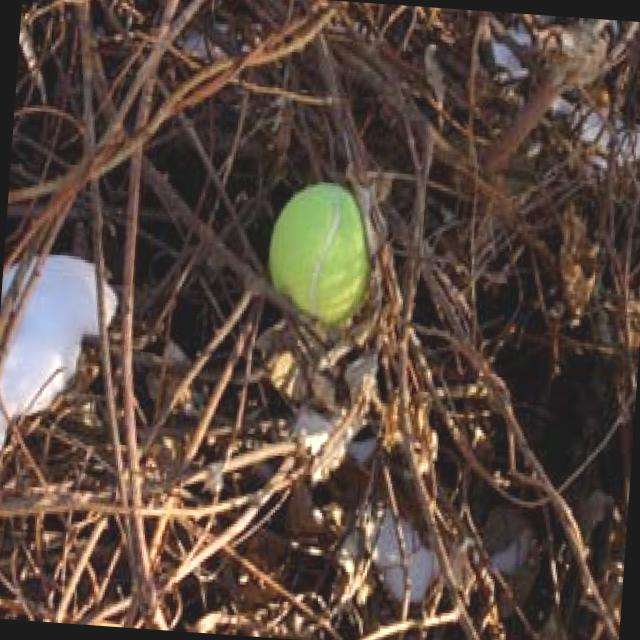Tennis Ball: (265, 182, 372, 328)
